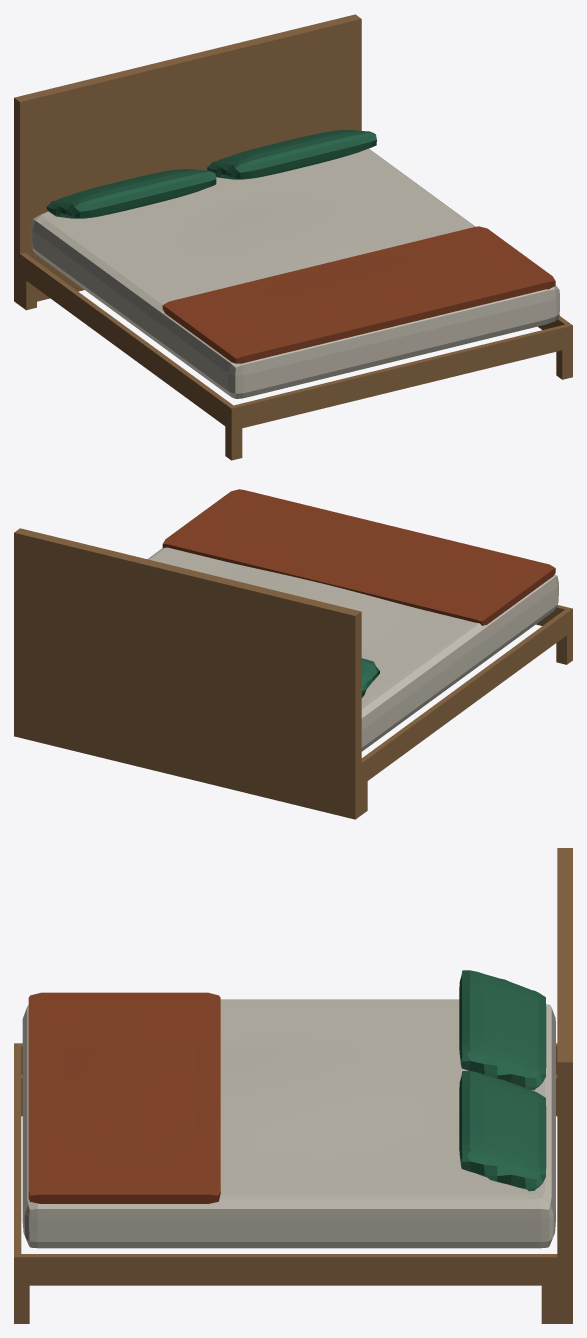
Rendered from FET-BED-king.glb.
The picture shows the model from 3 angles, top to bottom: view 1: azimuth 30°, elevation 25°; view 2: azimuth 150°, elevation 25°; view 3: azimuth 270°, elevation 25°; orthographic projection. The views are drawn at different scales.
Parts seen in each view (by area): view 1: mattress:pbr, head:pbr, throw:pbr, foot:pbr, rail-l:pbr, pillow-l:pbr, pillow-r:pbr; view 2: head:pbr, throw:pbr, mattress:pbr, rail-l:pbr, pillow-l:pbr, leg-fl:pbr; view 3: mattress:pbr, throw:pbr, rail-r:pbr, pillow-r:pbr, pillow-l:pbr, head:pbr, foot:pbr, leg-hr:pbr, leg-fr:pbr.
Part boxes in pixels (x1,y1,x2,y2): mattress:pbr: (31, 148, 559, 398); head:pbr: (14, 14, 361, 305); throw:pbr: (162, 226, 555, 363); foot:pbr: (234, 324, 567, 429); rail-l:pbr: (20, 253, 236, 430); pillow-l:pbr: (46, 169, 216, 218); pillow-r:pbr: (207, 130, 376, 179); head:pbr: (14, 528, 361, 819); throw:pbr: (162, 489, 555, 625); mattress:pbr: (148, 547, 558, 751); rail-l:pbr: (361, 607, 572, 784); pillow-l:pbr: (361, 658, 379, 697); leg-fl:pbr: (556, 631, 572, 664); mattress:pbr: (22, 999, 555, 1248); throw:pbr: (28, 992, 220, 1203); rail-r:pbr: (14, 1254, 557, 1285); pillow-r:pbr: (459, 1071, 546, 1191); pillow-l:pbr: (459, 970, 546, 1090); head:pbr: (557, 848, 572, 1323); foot:pbr: (14, 1046, 21, 1253); leg-hr:pbr: (541, 1285, 557, 1323); leg-fr:pbr: (14, 1285, 29, 1323).
Size of the model in its own units: 1.93 by 1.1 by 2.13.
